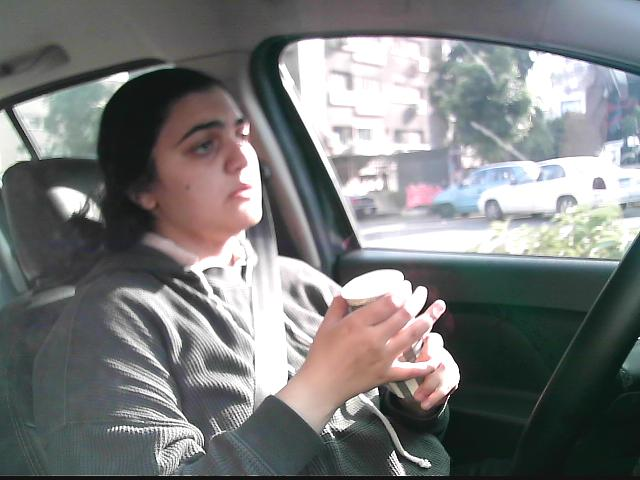Drinking: (338, 268, 449, 414)
